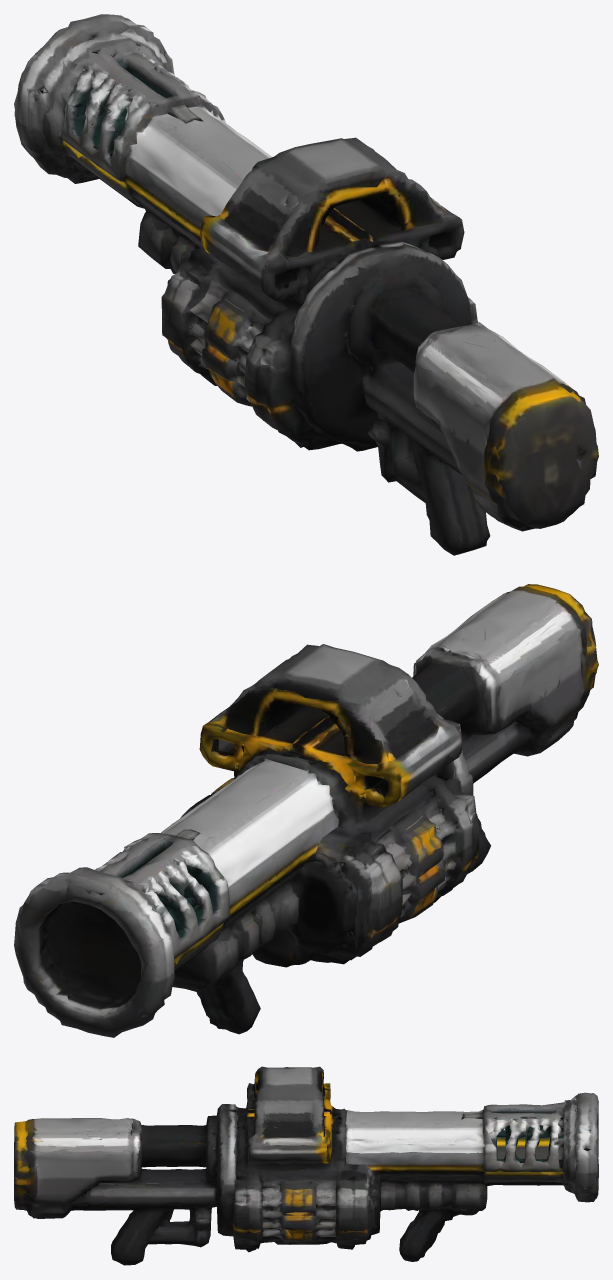
File: LAUNA0.obj
3 views of the same model, one above another, from view 1: azimuth 30°, elevation 25°; view 2: azimuth 150°, elevation 25°; view 3: azimuth 270°, elevation 25° (orthographic). The views are drawn at different scales.
Size of the model in its own units: 0.2749 by 0.3539 by 1.
Materials: 1 (1 with a texture image).
